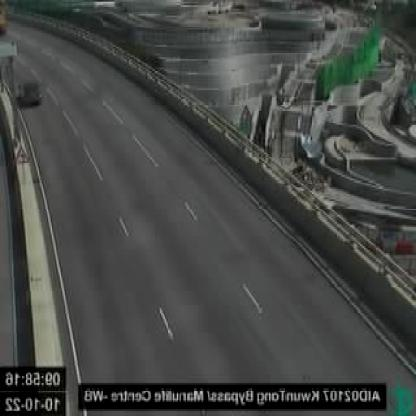Car: (20, 78, 42, 105)
